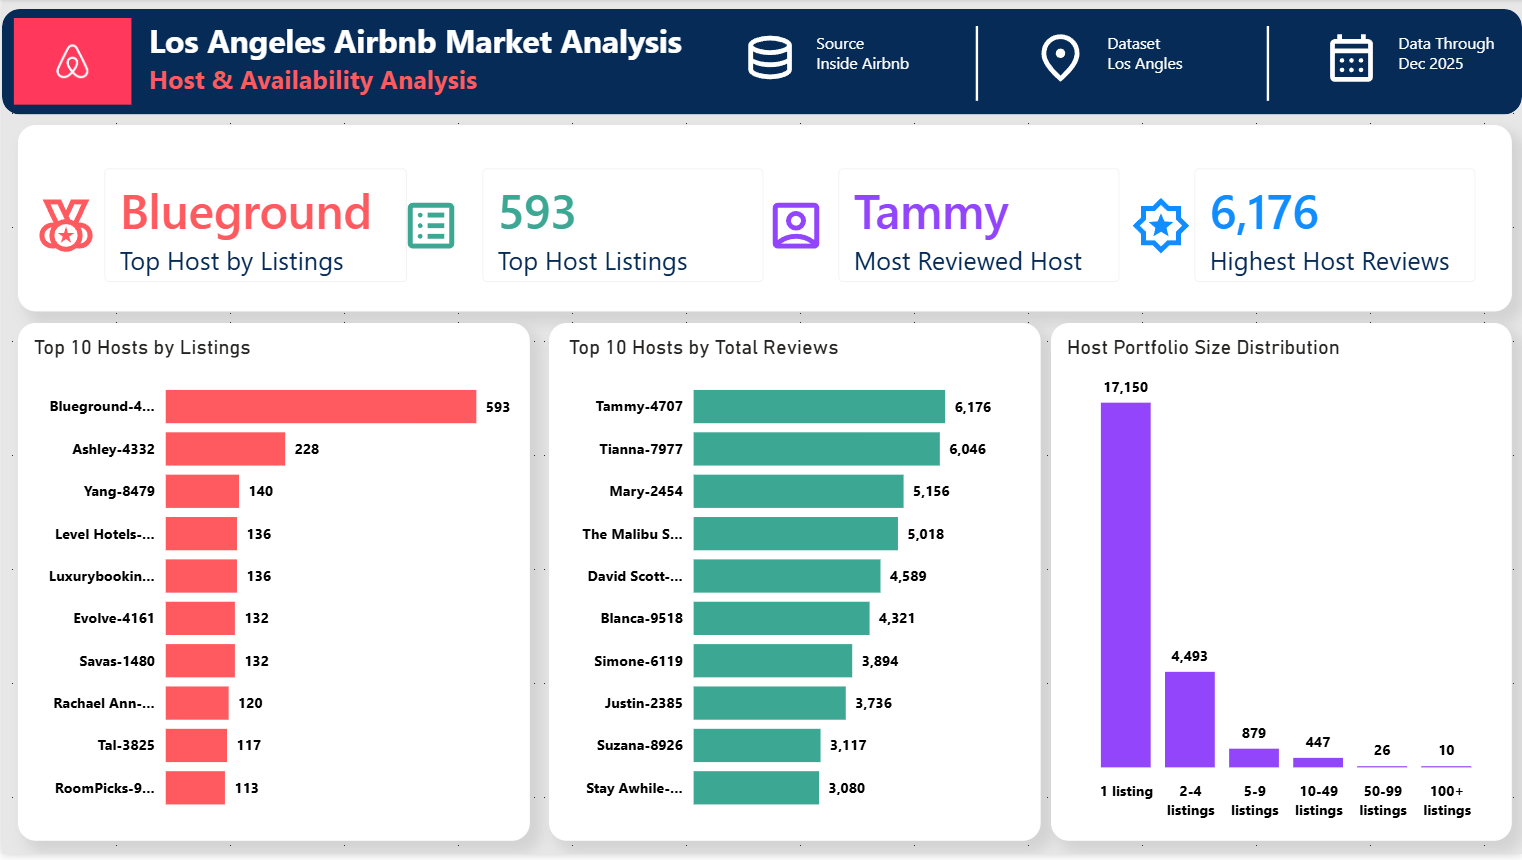

Layout of this report page (visuals, bound fields, positions):
{"tool":"powerbi","page":{"name":"Host & Availability Analysis","canvas":[1280,720],"ordinal":3},"visuals":[{"type":"shape","box":[0,8,1280,88.9],"z":0,"group":"g1"},{"type":"shape","box":[13.3,105.8,1257.8,157.3],"z":0},{"type":"cardVisual","fields":{"Data":["public vw_host_summary.Top Host"]},"box":[69.3,125.3,289.8,130.7],"z":1000},{"type":"cardVisual","fields":{"Data":["public vw_host_summary.Top Host Listings"]},"box":[387.6,125.3,271.1,130.7],"z":2000},{"type":"cardVisual","fields":{"Data":["public vw_host_summary.Most Reviewed Host"]},"box":[687.1,125.3,271.1,130.7],"z":3000},{"type":"cardVisual","fields":{"Data":["public vw_host_summary.Highest Host Reviews"]},"box":[986.7,125.3,271.1,130.7],"z":4000},{"type":"shape","box":[13.3,272.9,431.1,435.6],"z":5000},{"type":"clusteredBarChart","title":"Top 10 Hosts by Listings","fields":{"Category":["public vw_host_summary.Host Display"],"Y":["Sum(public vw_host_summary.total_listings)"]},"box":[22.2,282.7,411.6,415.1],"z":6000},{"type":"shape","box":[460.4,272.9,414.2,435.6],"z":7000},{"type":"clusteredBarChart","title":"Top 10 Hosts by Total Reviews","fields":{"Y":["Sum(public vw_host_summary.total_reviews)"],"Category":["public vw_host_summary.Host Display"]},"box":[472,282.7,389.3,415.1],"z":8000},{"type":"shape","box":[883.6,272.9,387.6,435.6],"z":9000},{"type":"clusteredColumnChart","title":"Host Portfolio Size Distribution","fields":{"Category":["public vw_host_summary.Host Portfolio Size"],"Y":["CountNonNull(public vw_host_summary.host_id)"]},"box":[891.6,282.7,373.3,415.1],"z":10000},{"type":"group","id":"g1","title":"Group 1","box":[0,8,1280,88.9],"z":11000},{"type":"image","box":[944,163.6,64,55.1],"z":12000},{"type":"image","box":[329.5,163.6,64,55.1],"z":13000},{"type":"image","box":[0,15.7,118.8,73.2],"z":14000,"group":"g1"},{"type":"image","box":[22.2,163.6,64,55.1],"z":14000},{"type":"textbox","box":[118.8,11.8,468.1,85.1],"z":15000,"group":"g1"},{"type":"image","box":[636.7,163.6,64,55.1],"z":15000},{"type":"textbox","box":[622.2,22.2,152.9,63.1],"z":16000,"group":"g1"},{"type":"textbox","box":[867.1,22.2,152.9,63.1],"z":17000,"group":"g1"},{"type":"textbox","box":[1112,22.2,152.9,63.1],"z":18000,"group":"g1"},{"type":"image","box":[622.2,22.2,48.9,53.3],"z":19000,"group":"g1"},{"type":"image","box":[867.6,22.2,48,53.3],"z":20000,"group":"g1"},{"type":"image","box":[1112,22.2,48,53.3],"z":21000,"group":"g1"},{"type":"shape","box":[814.4,22.2,13.3,63.1],"z":22000,"group":"g1"},{"type":"shape","box":[1059.6,22.2,13.3,63.1],"z":23000,"group":"g1"}]}

Visuals, with their boxes in screenshot pixels (x1, y1, x2, y2), scaled from the page's 1280x720 canvas onto the 1522x860 screenshot:
shape: x1=0, y1=10, x2=1521, y2=116
shape: x1=16, y1=126, x2=1511, y2=314
cardVisual - public vw_host_summary.Top Host: x1=82, y1=150, x2=427, y2=306
cardVisual - public vw_host_summary.Top Host Listings: x1=461, y1=150, x2=783, y2=306
cardVisual - public vw_host_summary.Most Reviewed Host: x1=817, y1=150, x2=1139, y2=306
cardVisual - public vw_host_summary.Highest Host Reviews: x1=1173, y1=150, x2=1496, y2=306
shape: x1=16, y1=326, x2=528, y2=846
"Top 10 Hosts by Listings" clusteredBarChart: x1=26, y1=338, x2=516, y2=833
shape: x1=547, y1=326, x2=1040, y2=846
"Top 10 Hosts by Total Reviews" clusteredBarChart: x1=561, y1=338, x2=1024, y2=833
shape: x1=1051, y1=326, x2=1512, y2=846
"Host Portfolio Size Distribution" clusteredColumnChart: x1=1060, y1=338, x2=1504, y2=833
"Group 1" group: x1=0, y1=10, x2=1521, y2=116
image: x1=1122, y1=195, x2=1199, y2=261
image: x1=392, y1=195, x2=468, y2=261
image: x1=0, y1=19, x2=141, y2=106
image: x1=26, y1=195, x2=102, y2=261
textbox: x1=141, y1=14, x2=698, y2=116
image: x1=757, y1=195, x2=833, y2=261
textbox: x1=740, y1=27, x2=922, y2=102
textbox: x1=1031, y1=27, x2=1213, y2=102
textbox: x1=1322, y1=27, x2=1504, y2=102
image: x1=740, y1=27, x2=798, y2=90
image: x1=1032, y1=27, x2=1089, y2=90
image: x1=1322, y1=27, x2=1379, y2=90
shape: x1=968, y1=27, x2=984, y2=102
shape: x1=1260, y1=27, x2=1276, y2=102
